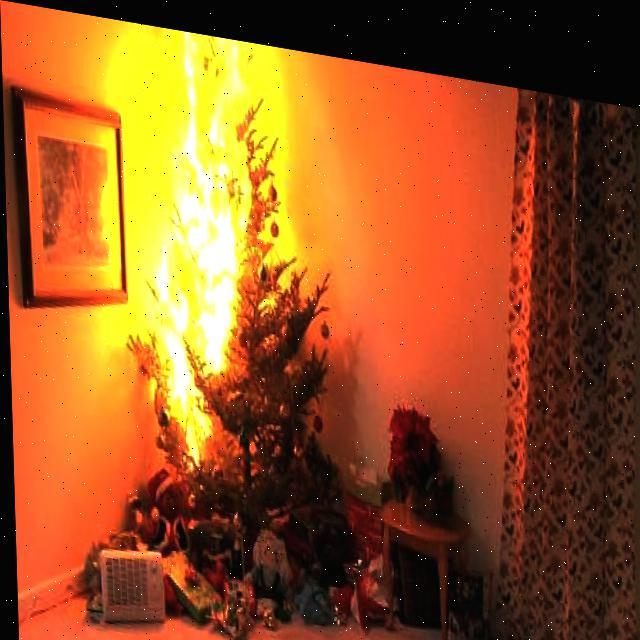Fire: (146, 19, 260, 474)
